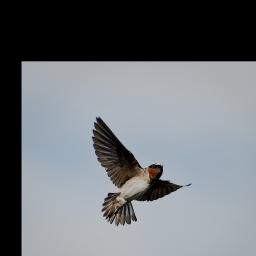Swallow: (90, 114, 192, 229)
